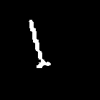half_double_crochet: (29, 20, 49, 67)
